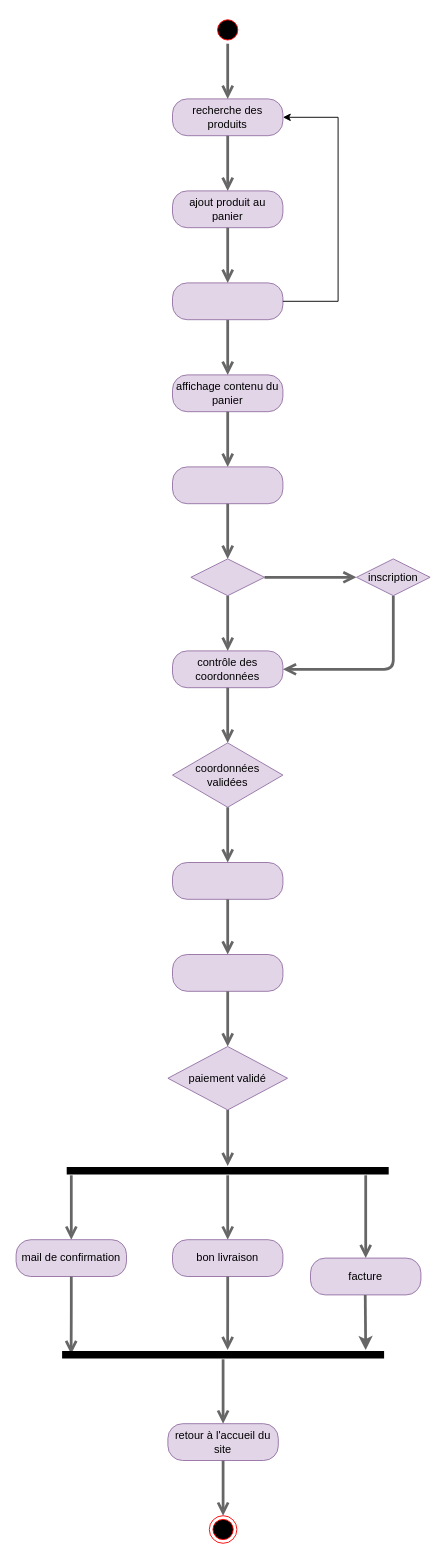
Image size: 446x1559. Some labels were removed from this diagram. Here are the shapes that lost their labels. From the top down, the centre of each, then its label:
the point at 227,301: recherche d'autres produits
the point at 227,485: validation du panier
the point at 227,577: connexion
the point at 227,880: choix livraison colis
the point at 227,972: paiement
